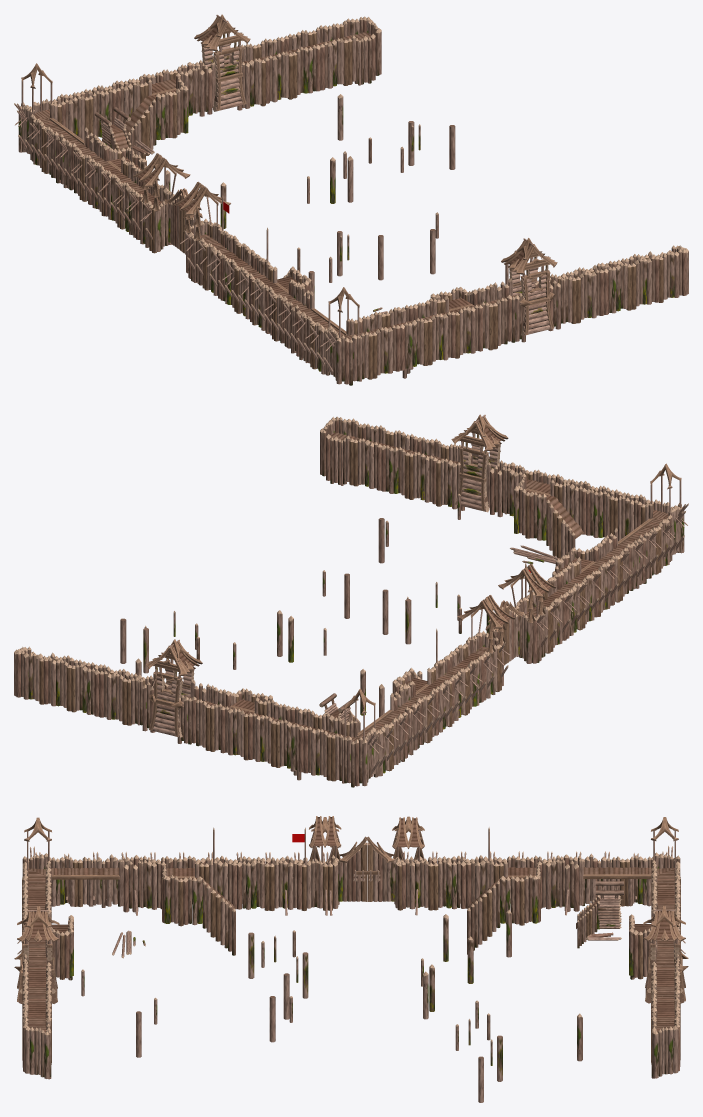
File: Level1Wall.FBX
The picture shows the model from 3 angles, top to bottom: view 1: azimuth 30°, elevation 25°; view 2: azimuth 150°, elevation 25°; view 3: azimuth 270°, elevation 25°; orthographic projection. The views are drawn at different scales.
Parts seen in each view (by area): view 1: Wall1, Cylinder1945, WallPath2, WallPath1, GateRightWing, InsideTower1; view 2: Cylinder1945, Wall1, WallPath1, WallPath2, GateLeftWing; view 3: Wall1, Cylinder1945, WallPath2, WallPath1, InsideTower1, GateLeftWing, GateRightWing.
Part boxes in pixels (x1,y1,x2,y2): Wall1: (173,181,688,385); Cylinder1945: (14,14,381,253); WallPath2: (34,32,370,213); WallPath1: (200,234,519,340); GateRightWing: (164,188,185,250); InsideTower1: (94,107,133,150); Cylinder1945: (14,595,515,787); Wall1: (320,414,688,663); WallPath1: (330,432,668,617); WallPath2: (184,646,488,742); GateLeftWing: (502,600,523,663); Wall1: (14,816,341,1079); Cylinder1945: (392,816,688,1078); WallPath2: (460,867,674,1032); WallPath1: (28,867,242,1032); InsideTower1: (577,881,623,948); GateLeftWing: (338,836,367,901); GateRightWing: (367,836,395,901).
Size of the model in its own units: 3139 by 1031 by 4909.
